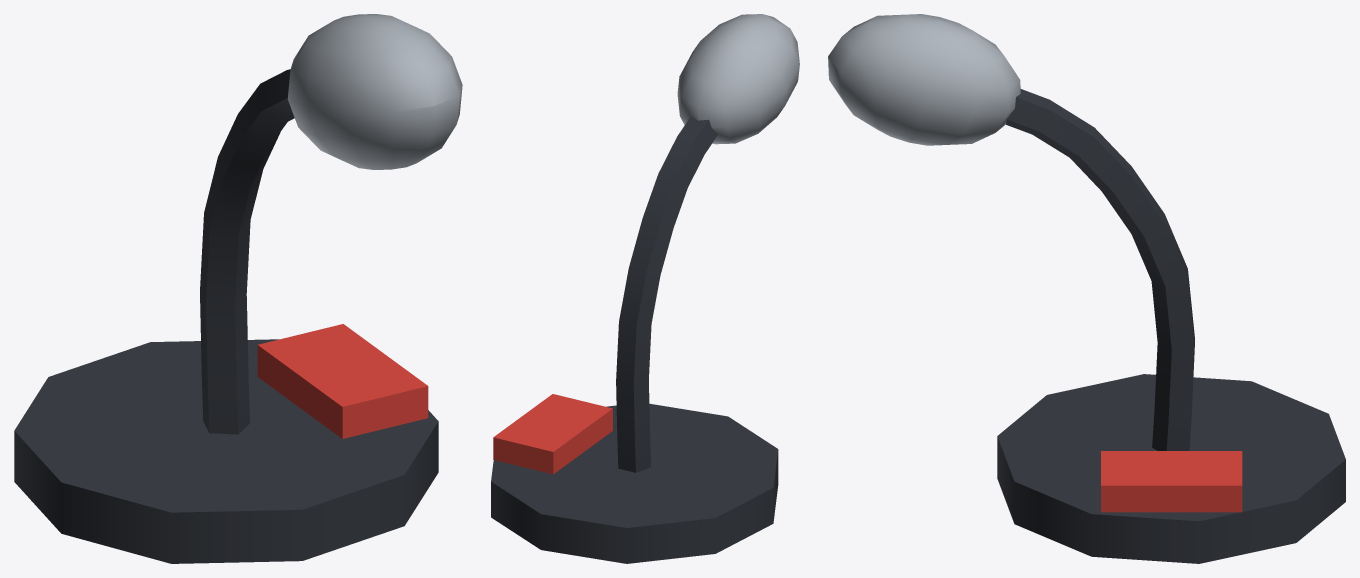
File: Microfono.fbx
3 renders of one model, left to right at view 1: azimuth 30°, elevation 25°; view 2: azimuth 150°, elevation 25°; view 3: azimuth 270°, elevation 25°, orthographic. The views are drawn at different scales.
Visible parts, largest first — view 1: Microfono; view 2: Microfono; view 3: Microfono.
Boxes of the visible parts, x1=… form: Microfono: x1=14, y1=14, x2=462, y2=563; Microfono: x1=491, y1=14, x2=799, y2=563; Microfono: x1=828, y1=14, x2=1345, y2=563.
Bounding box in the file's own units: 0.5926 × 0.885 × 0.8805.
1 material, 1 textured.
